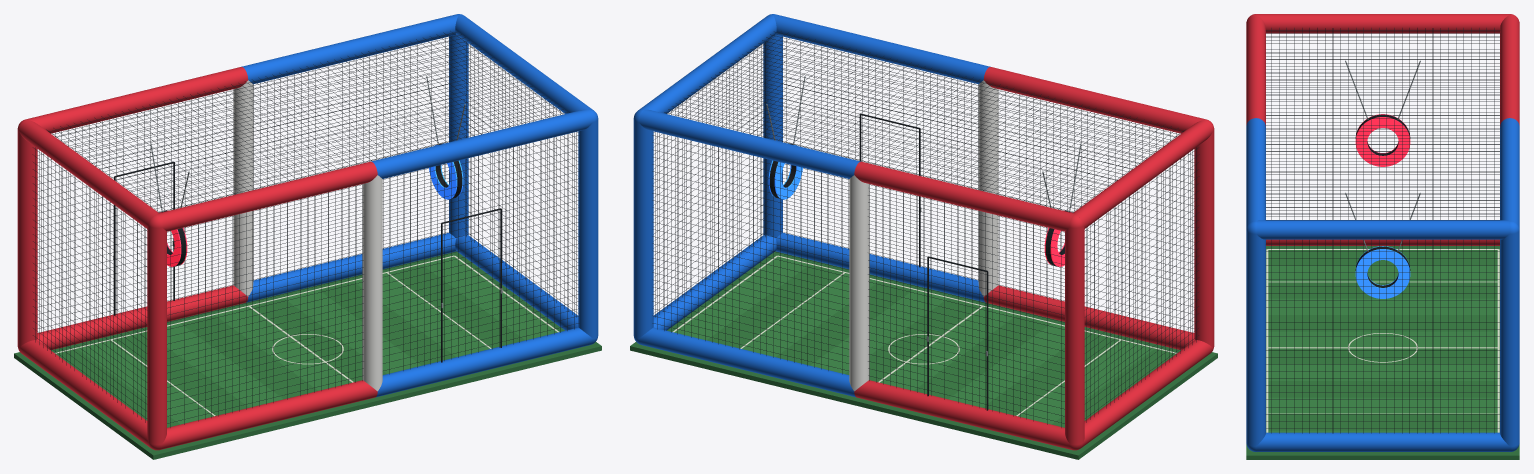
The model's file is arena.glb.
The picture shows the model from 3 angles, left to right: view 1: azimuth 30°, elevation 25°; view 2: azimuth 150°, elevation 25°; view 3: azimuth 270°, elevation 25°; orthographic projection.
Visible parts, largest first — view 1: Square mesh on walls and ceiling, Turf strip (×12), Red inflatable tubes, Blue inflatable tubes, White centre pillars, Turf, Door zipper seams, Touch line; view 2: Square mesh on walls and ceiling, Turf strip (×12), Red inflatable tubes, Blue inflatable tubes, White centre pillars, Turf, Door zipper seams, Touch line; view 3: Turf strip (×12), Square mesh on walls and ceiling, Blue inflatable tubes, Red inflatable tubes, Team colour panel (×2), Turf, Touch line (×2), Halfway line, Goal zone line.
Boxes of the visible parts, x1,y1,x2,y2 form: Square mesh on walls and ceiling: (32,31,579,427); Turf strip (×12): (56,255,559,427); Red inflatable tubes: (17,67,377,449); Blue inflatable tubes: (241,14,598,397); White centre pillars: (233,80,382,391); Turf: (14,251,601,459); Door zipper seams: (114,161,501,362); Touch line: (55,255,454,353); Square mesh on walls and ceiling: (652,31,1199,427); Turf strip (×12): (672,255,1175,427); Red inflatable tubes: (854,67,1214,449); Blue inflatable tubes: (633,14,990,397); White centre pillars: (849,80,998,391); Turf: (630,251,1217,459); Door zipper seams: (859,113,988,410); Touch line: (777,255,1176,353); Turf strip (×12): (1266,249,1499,432); Square mesh on walls and ceiling: (1266,28,1499,433); Blue inflatable tubes: (1246,118,1519,451); Red inflatable tubes: (1246,14,1519,245); Team colour panel (×2): (1355,117,1410,298); Turf: (1246,246,1519,459); Touch line (×2): (1266,249,1499,432); Halfway line: (1268,347,1497,348); Goal zone line: (1268,281,1497,282).
Bounding box in the file's own units: 6.5 × 3.31 × 3.5.
